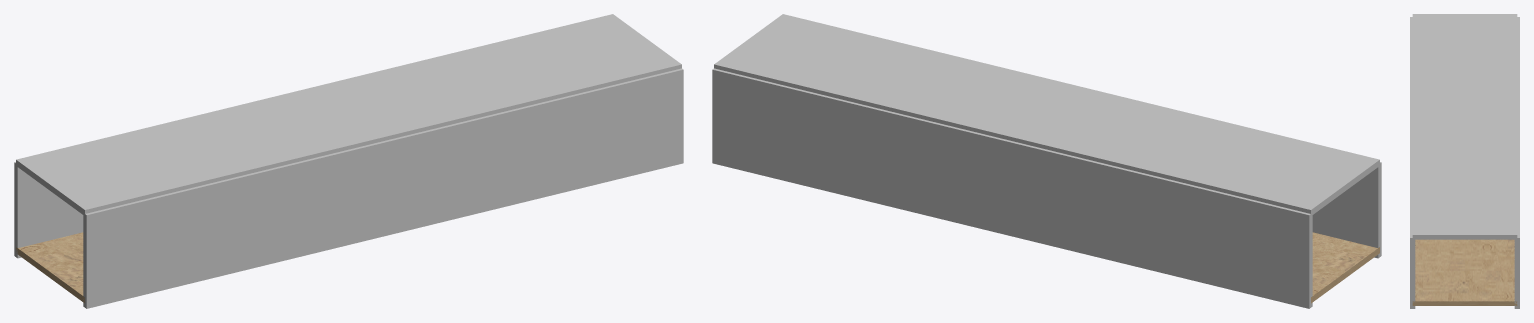
The picture shows the model from 3 angles, left to right: view 1: azimuth 30°, elevation 25°; view 2: azimuth 150°, elevation 25°; view 3: azimuth 270°, elevation 25°; orthographic projection. The views are drawn at different scales.
Visible parts, largest first — view 1: Cube.002, Cube.003, Cube.001, Cube; view 2: Cube.001, Cube.003, Cube.002, Cube; view 3: Cube.003, Cube, Cube.001, Cube.002.
Part boxes in pixels (x1=…): Cube.002: x1=83, y1=68, x2=683, y2=308; Cube.003: x1=16, y1=14, x2=681, y2=215; Cube.001: x1=14, y1=162, x2=83, y2=258; Cube: x1=16, y1=232, x2=84, y2=302; Cube.001: x1=712, y1=68, x2=1312, y2=308; Cube.003: x1=714, y1=14, x2=1379, y2=215; Cube.002: x1=1312, y1=162, x2=1381, y2=258; Cube: x1=1311, y1=232, x2=1379, y2=303; Cube.003: x1=1412, y1=14, x2=1517, y2=239; Cube: x1=1412, y1=239, x2=1517, y2=305; Cube.001: x1=1514, y1=17, x2=1519, y2=308; Cube.002: x1=1410, y1=17, x2=1415, y2=308.
Size of the model in its own units: 2000 by 313 by 420.
